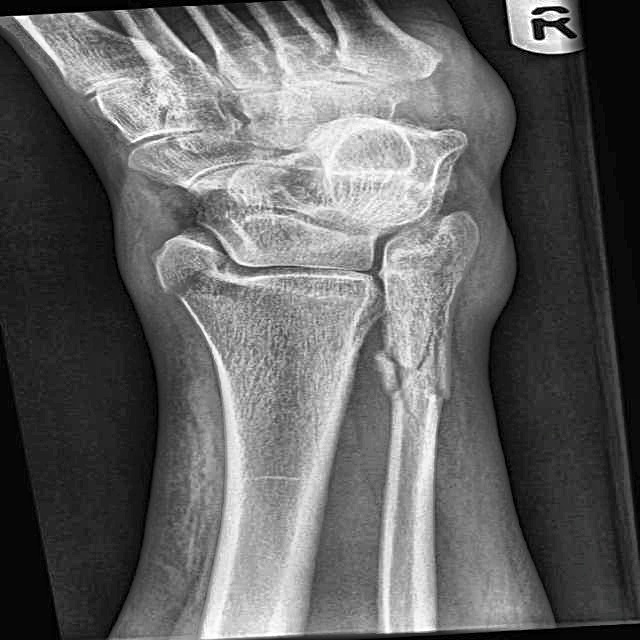Comminuted: (368, 324, 472, 414)
Greenstick: (140, 254, 267, 312)
